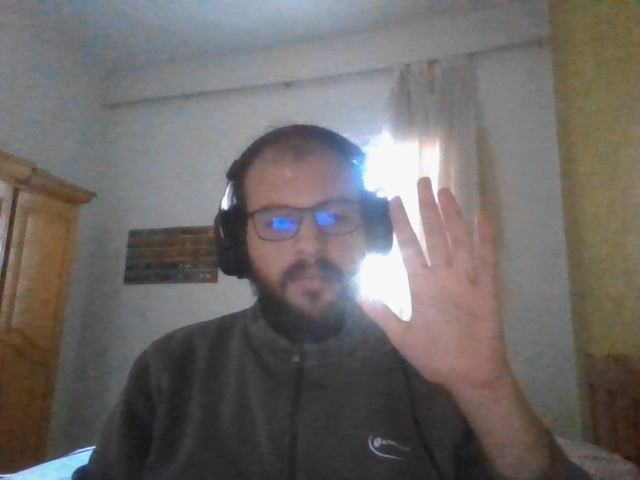Hello: (359, 175, 507, 387)
